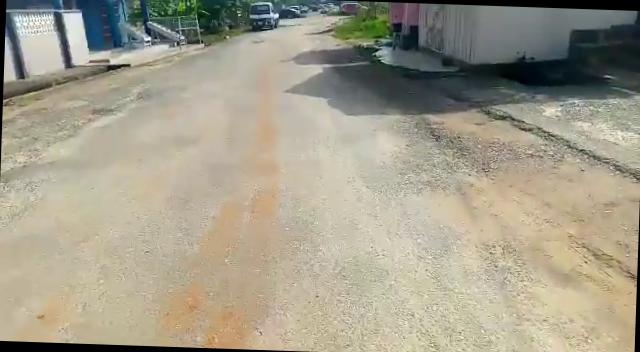pothole: (418, 102, 612, 174)
